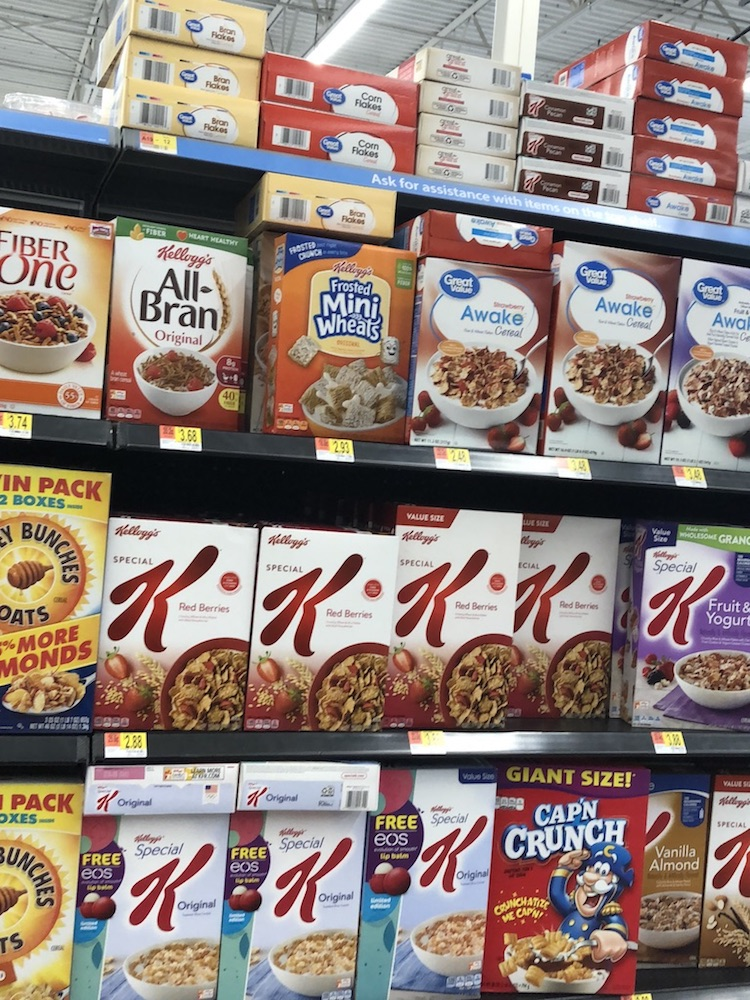Frosted Mini Original -9295869: (281, 239, 411, 450)
